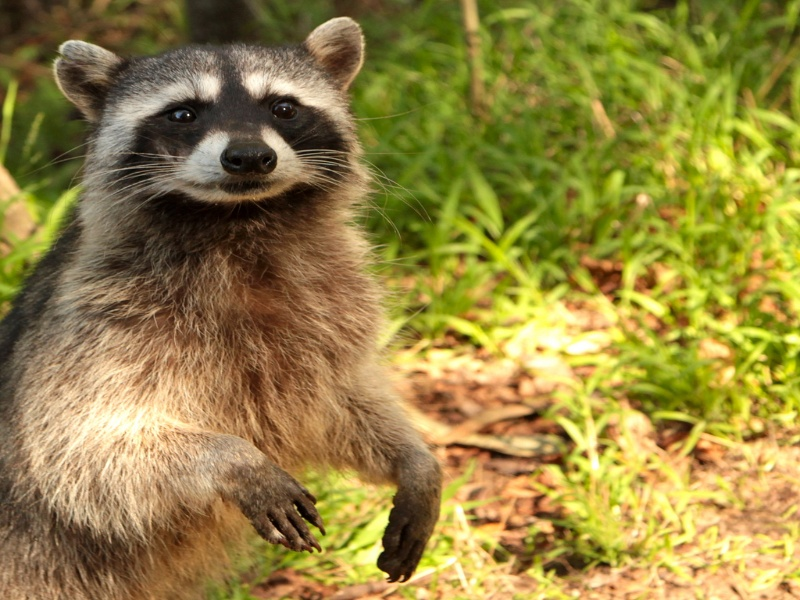raccoon: (2, 13, 442, 592)
